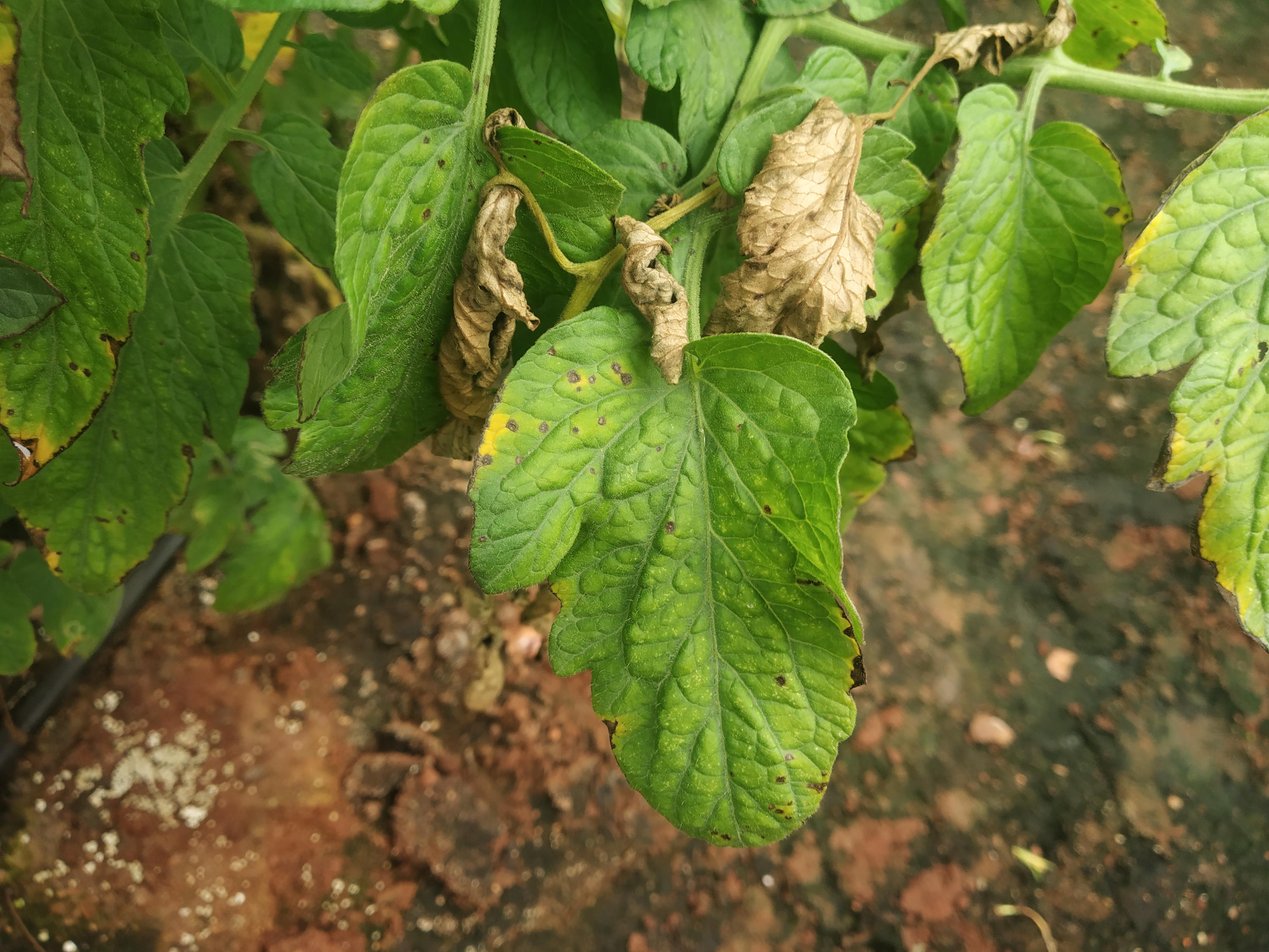Early Blight: (457, 302, 876, 855), (0, 0, 252, 504)
